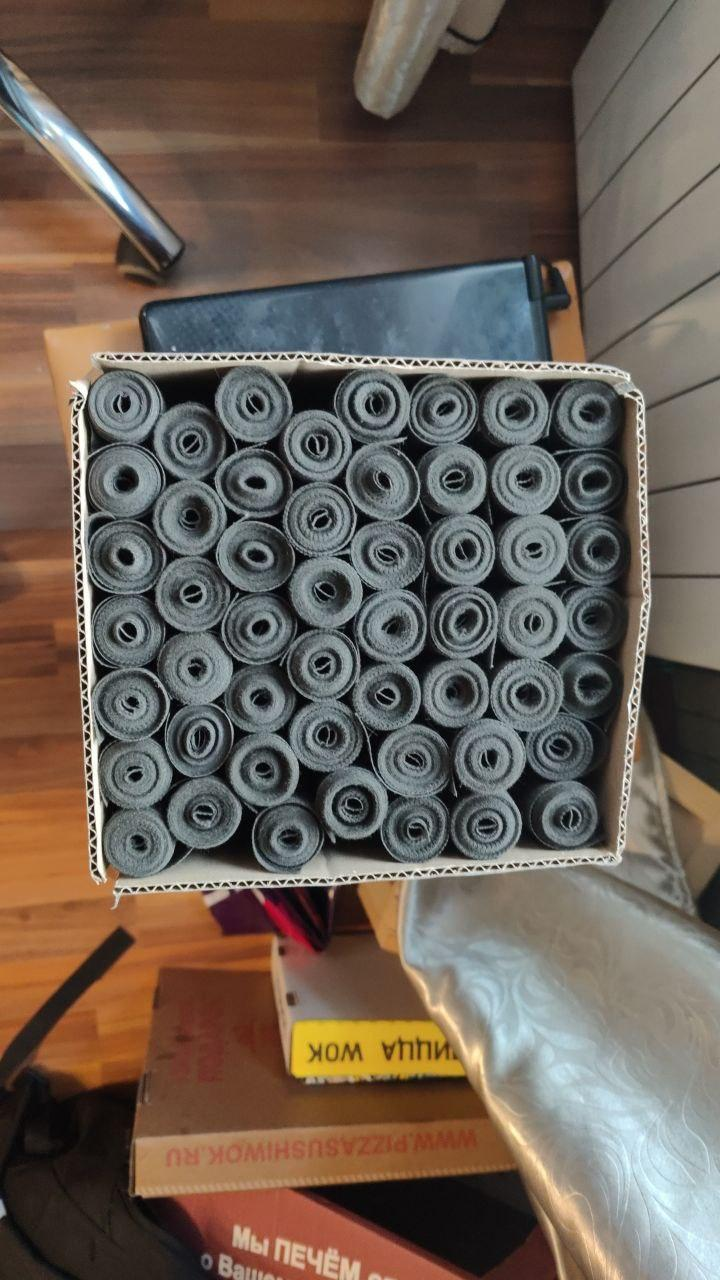roll: (84, 441, 167, 524), (85, 517, 167, 600), (213, 364, 295, 447), (163, 772, 245, 854), (90, 588, 171, 671), (153, 553, 234, 635), (343, 440, 424, 522), (374, 720, 456, 801), (91, 664, 172, 746), (154, 628, 236, 708), (214, 516, 296, 596), (150, 478, 230, 560), (450, 716, 530, 797), (331, 366, 412, 446), (96, 733, 177, 813), (151, 402, 229, 485), (492, 581, 571, 662), (223, 729, 302, 809), (493, 509, 572, 589), (280, 480, 359, 559), (287, 697, 367, 775), (425, 584, 503, 664), (285, 553, 365, 631), (85, 366, 163, 446), (219, 590, 300, 667), (313, 765, 391, 844), (348, 516, 428, 593), (214, 445, 294, 522), (353, 587, 431, 665), (277, 406, 355, 484), (486, 442, 564, 520), (487, 654, 566, 731), (163, 700, 239, 780), (423, 511, 500, 589), (523, 776, 602, 852), (417, 654, 494, 731), (250, 799, 327, 876), (284, 625, 362, 701), (415, 442, 493, 518), (348, 661, 426, 736), (448, 789, 527, 863), (222, 661, 299, 736), (550, 378, 625, 454), (406, 372, 482, 447), (101, 805, 177, 880), (523, 711, 600, 785), (377, 791, 452, 866), (478, 375, 554, 449), (552, 647, 625, 723), (556, 446, 628, 520), (557, 583, 629, 657), (561, 512, 631, 588)
